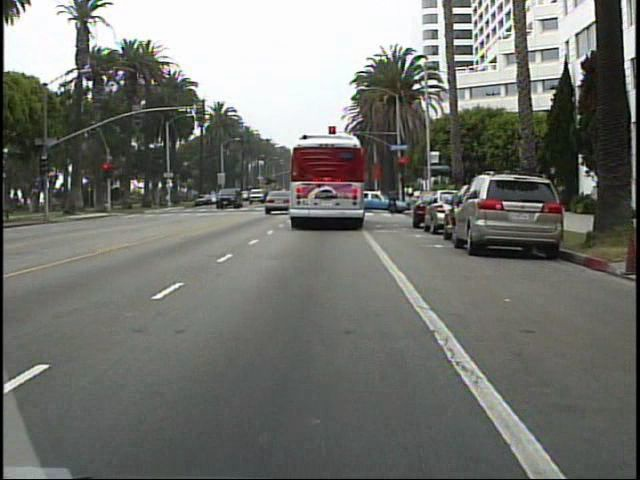person: (383, 185, 401, 217)
